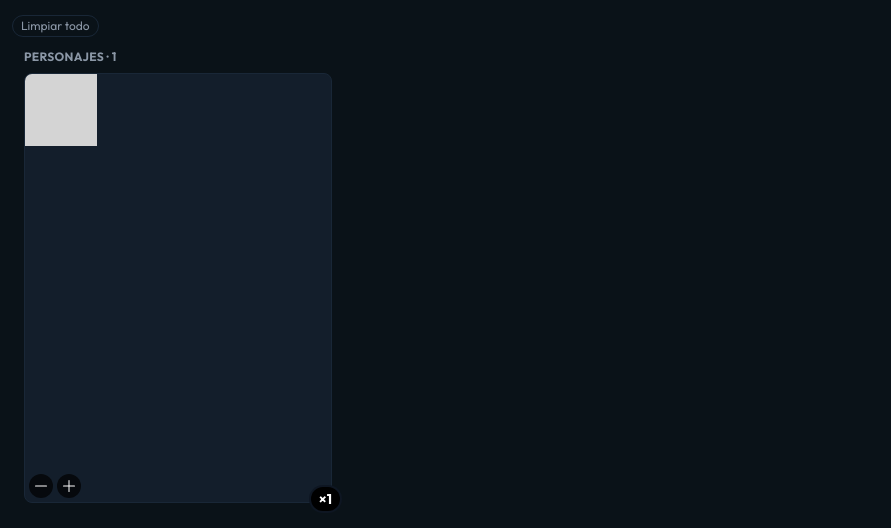
ClearDeckButton › limpia las cartas al hacer clic
The width and height of the screenshot is (891, 528).
Click the button "Limpiar todo" at (55, 26), box [12,15,99,37]
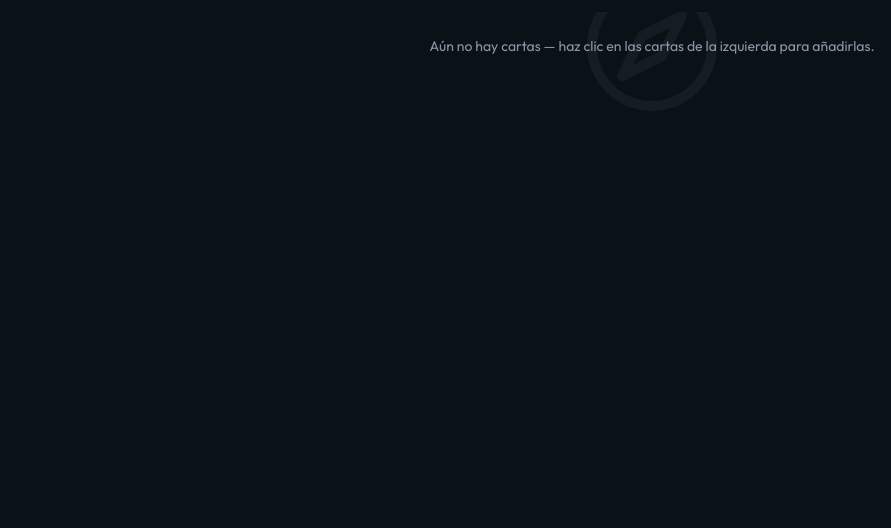
Result: the button "Limpiar todo" is gone
Result: the text "Aún no hay cartas" is shown at [430,37,875,55]
